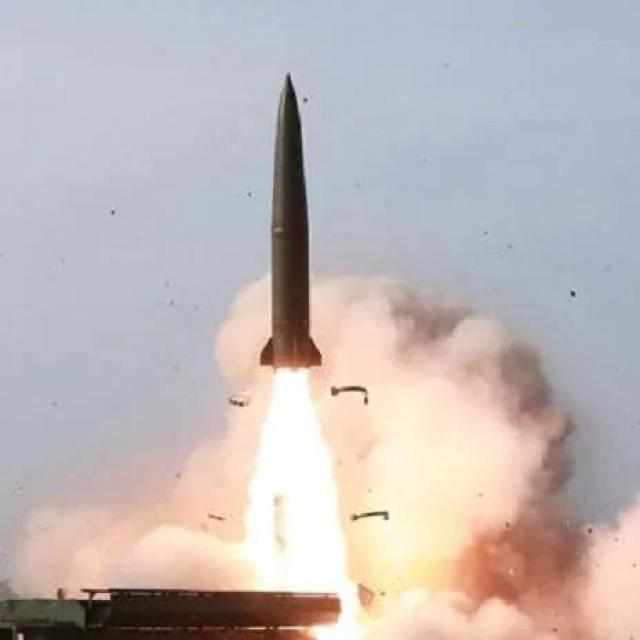Missile: (249, 74, 331, 385)
